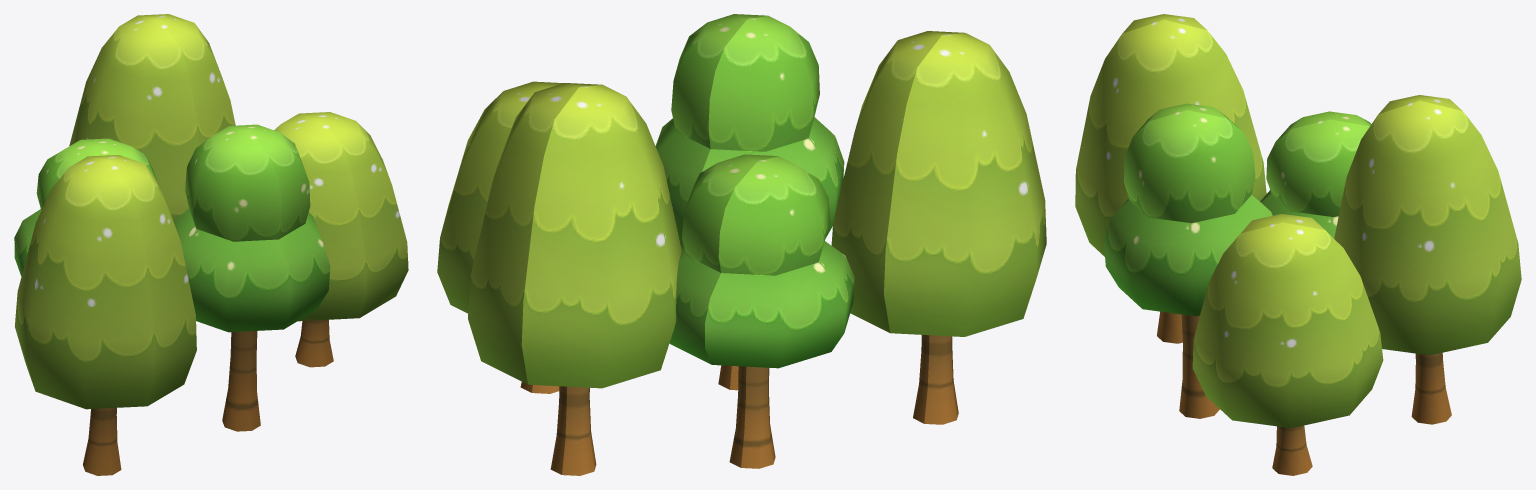
Rendered from trees.fbx.
3 views of the same model, side by side, from view 1: azimuth 30°, elevation 25°; view 2: azimuth 150°, elevation 25°; view 3: azimuth 270°, elevation 25° (orthographic). The views are drawn at different scales.
Parts seen in each view (by area): view 1: polySurface5059, polySurface4999, polySurface4226, polySurface6696, polySurface4317; view 2: polySurface4226, polySurface5059, polySurface4317, polySurface4999, polySurface6696; view 3: polySurface4226, polySurface6696, polySurface4999, polySurface5059, polySurface4317.
Part boxes in pixels (left/top/right/bottom): polySurface5059: left=15, top=155, right=196, bottom=475; polySurface4999: left=173, top=124, right=330, bottom=431; polySurface4226: left=69, top=14, right=235, bottom=220; polySurface6696: left=274, top=112, right=408, bottom=367; polySurface4317: left=14, top=138, right=156, bottom=276; polySurface4226: left=468, top=83, right=681, bottom=475; polySurface5059: left=831, top=31, right=1046, bottom=424; polySurface4317: left=669, top=154, right=854, bottom=468; polySurface4999: left=655, top=14, right=844, bottom=390; polySurface6696: left=437, top=81, right=563, bottom=393; polySurface4226: left=1334, top=95, right=1521, bottom=424; polySurface6696: left=1192, top=214, right=1383, bottom=475; polySurface4999: left=1104, top=103, right=1272, bottom=418; polySurface5059: left=1075, top=14, right=1266, bottom=343; polySurface4317: left=1260, top=111, right=1371, bottom=238.
Bounding box in the file's own units: 28690 × 20235 × 25315.
